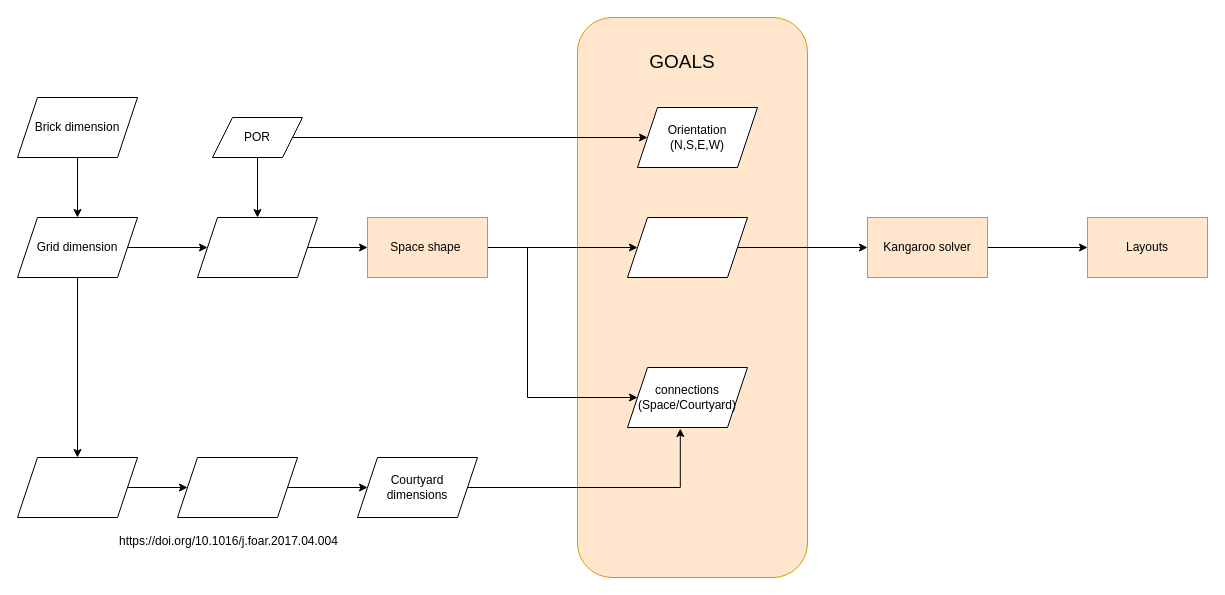
Image size: 1225x595. Some labels were removed from this diagram. The centre of each missing label's shape, as x and y in pixels:
"adjacencies (Space/Space)" goes at (x=687, y=247).
"Courtyard proportions" goes at (x=237, y=487).
"Length" goes at (x=77, y=487).
"Room dimensions" goes at (x=257, y=247).
